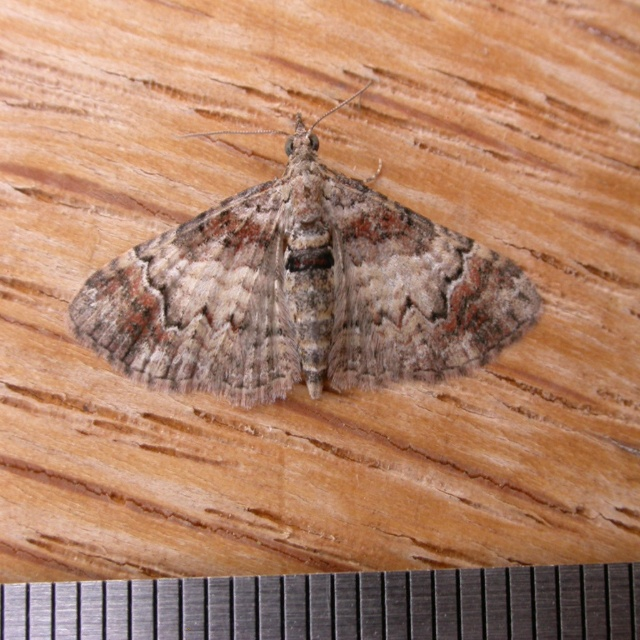Moths and butterflies: (63, 79, 544, 406)
